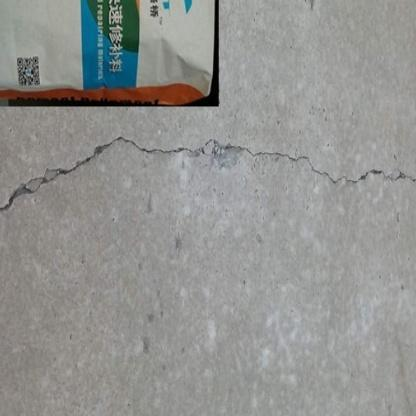Cracks: (0, 133, 416, 225)
